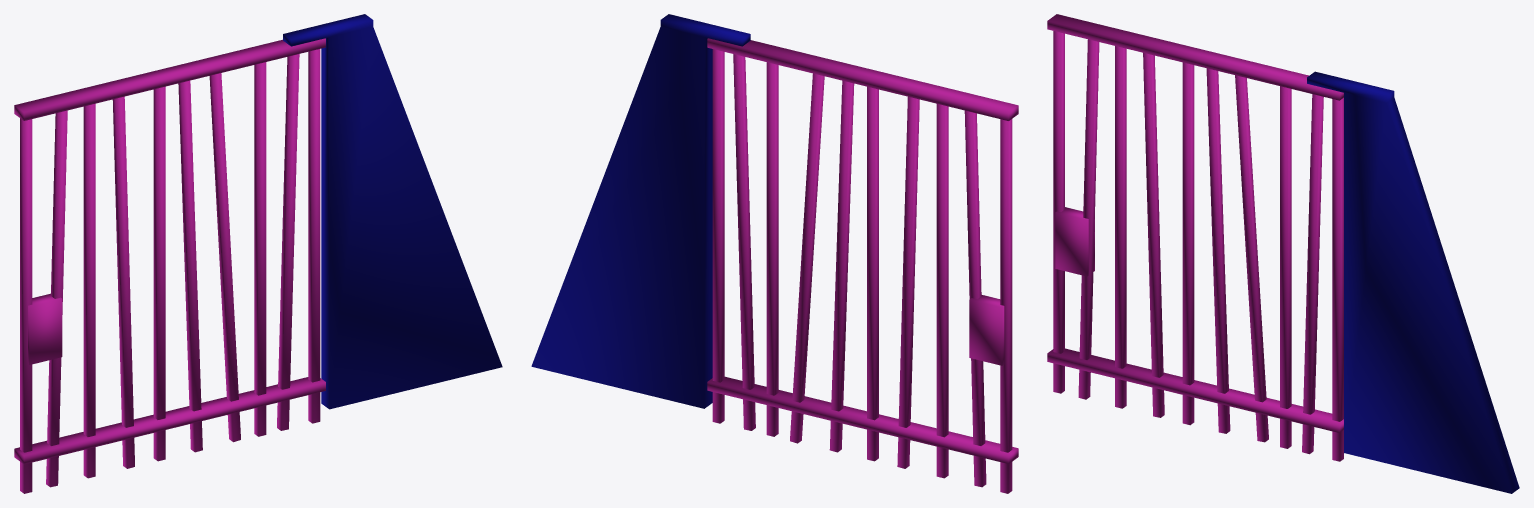
The model's file is puertabidones.obj.
3 views of the same model, side by side, from view 1: azimuth 30°, elevation 25°; view 2: azimuth 150°, elevation 25°; view 3: azimuth 330°, elevation 25° (orthographic). The views are drawn at different scales.
Visible parts, largest first — view 1: puertabidones, soportepuertabidones; view 2: puertabidones, soportepuertabidones; view 3: puertabidones, soportepuertabidones.
Part boxes in pixels (x1,y1,x2,y2): puertabidones: [14, 38, 325, 493]; soportepuertabidones: [283, 14, 502, 409]; puertabidones: [707, 38, 1018, 493]; soportepuertabidones: [531, 14, 750, 408]; puertabidones: [1047, 14, 1343, 461]; soportepuertabidones: [1307, 71, 1519, 493].
Size of the model in its own units: 23.53 by 18.37 by 0.839.
